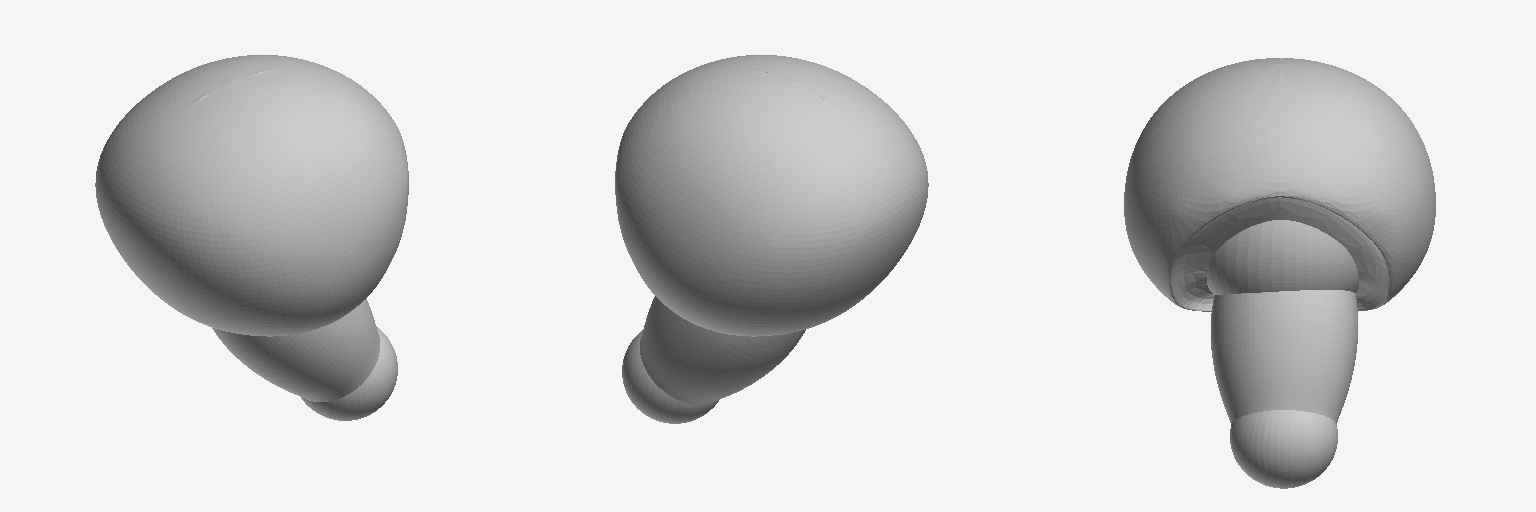
The model's file is uparmL.obj.
The picture shows the model from 3 angles: view 1: azimuth 30°, elevation 25°; view 2: azimuth 150°, elevation 25°; view 3: azimuth 270°, elevation 25°; orthographic projection.
Visible parts, largest first — view 1: uploads_files_[number redacted]_Guts_man:Mesh polySurface20, uploads_files_[number redacted]_Guts_man:Mesh polySurface51, polySurface50 uploads_files_[number redacted]_Guts_man:Mesh; view 2: uploads_files_[number redacted]_Guts_man:Mesh polySurface20, uploads_files_[number redacted]_Guts_man:Mesh polySurface51, polySurface50 uploads_files_[number redacted]_Guts_man:Mesh; view 3: uploads_files_[number redacted]_Guts_man:Mesh polySurface20, uploads_files_[number redacted]_Guts_man:Mesh polySurface51, uploads_files_[number redacted]_Guts_man:Mesh polySurface15, polySurface50 uploads_files_[number redacted]_Guts_man:Mesh.
Part boxes in pixels (x1,y1,x2,y2): uploads_files_[number redacted]_Guts_man:Mesh polySurface20: (95,55,408,336); uploads_files_[number redacted]_Guts_man:Mesh polySurface51: (212,298,379,401); polySurface50 uploads_files_[number redacted]_Guts_man:Mesh: (301,326,397,420); uploads_files_[number redacted]_Guts_man:Mesh polySurface20: (615,55,928,336); uploads_files_[number redacted]_Guts_man:Mesh polySurface51: (640,296,805,404); polySurface50 uploads_files_[number redacted]_Guts_man:Mesh: (622,330,718,423); uploads_files_[number redacted]_Guts_man:Mesh polySurface20: (1124,58,1435,311); uploads_files_[number redacted]_Guts_man:Mesh polySurface51: (1211,290,1357,423); uploads_files_[number redacted]_Guts_man:Mesh polySurface15: (1207,220,1358,294); polySurface50 uploads_files_[number redacted]_Guts_man:Mesh: (1230,410,1337,488).
Bounding box in the file's own units: 0.4433 × 0.5685 × 0.4384.